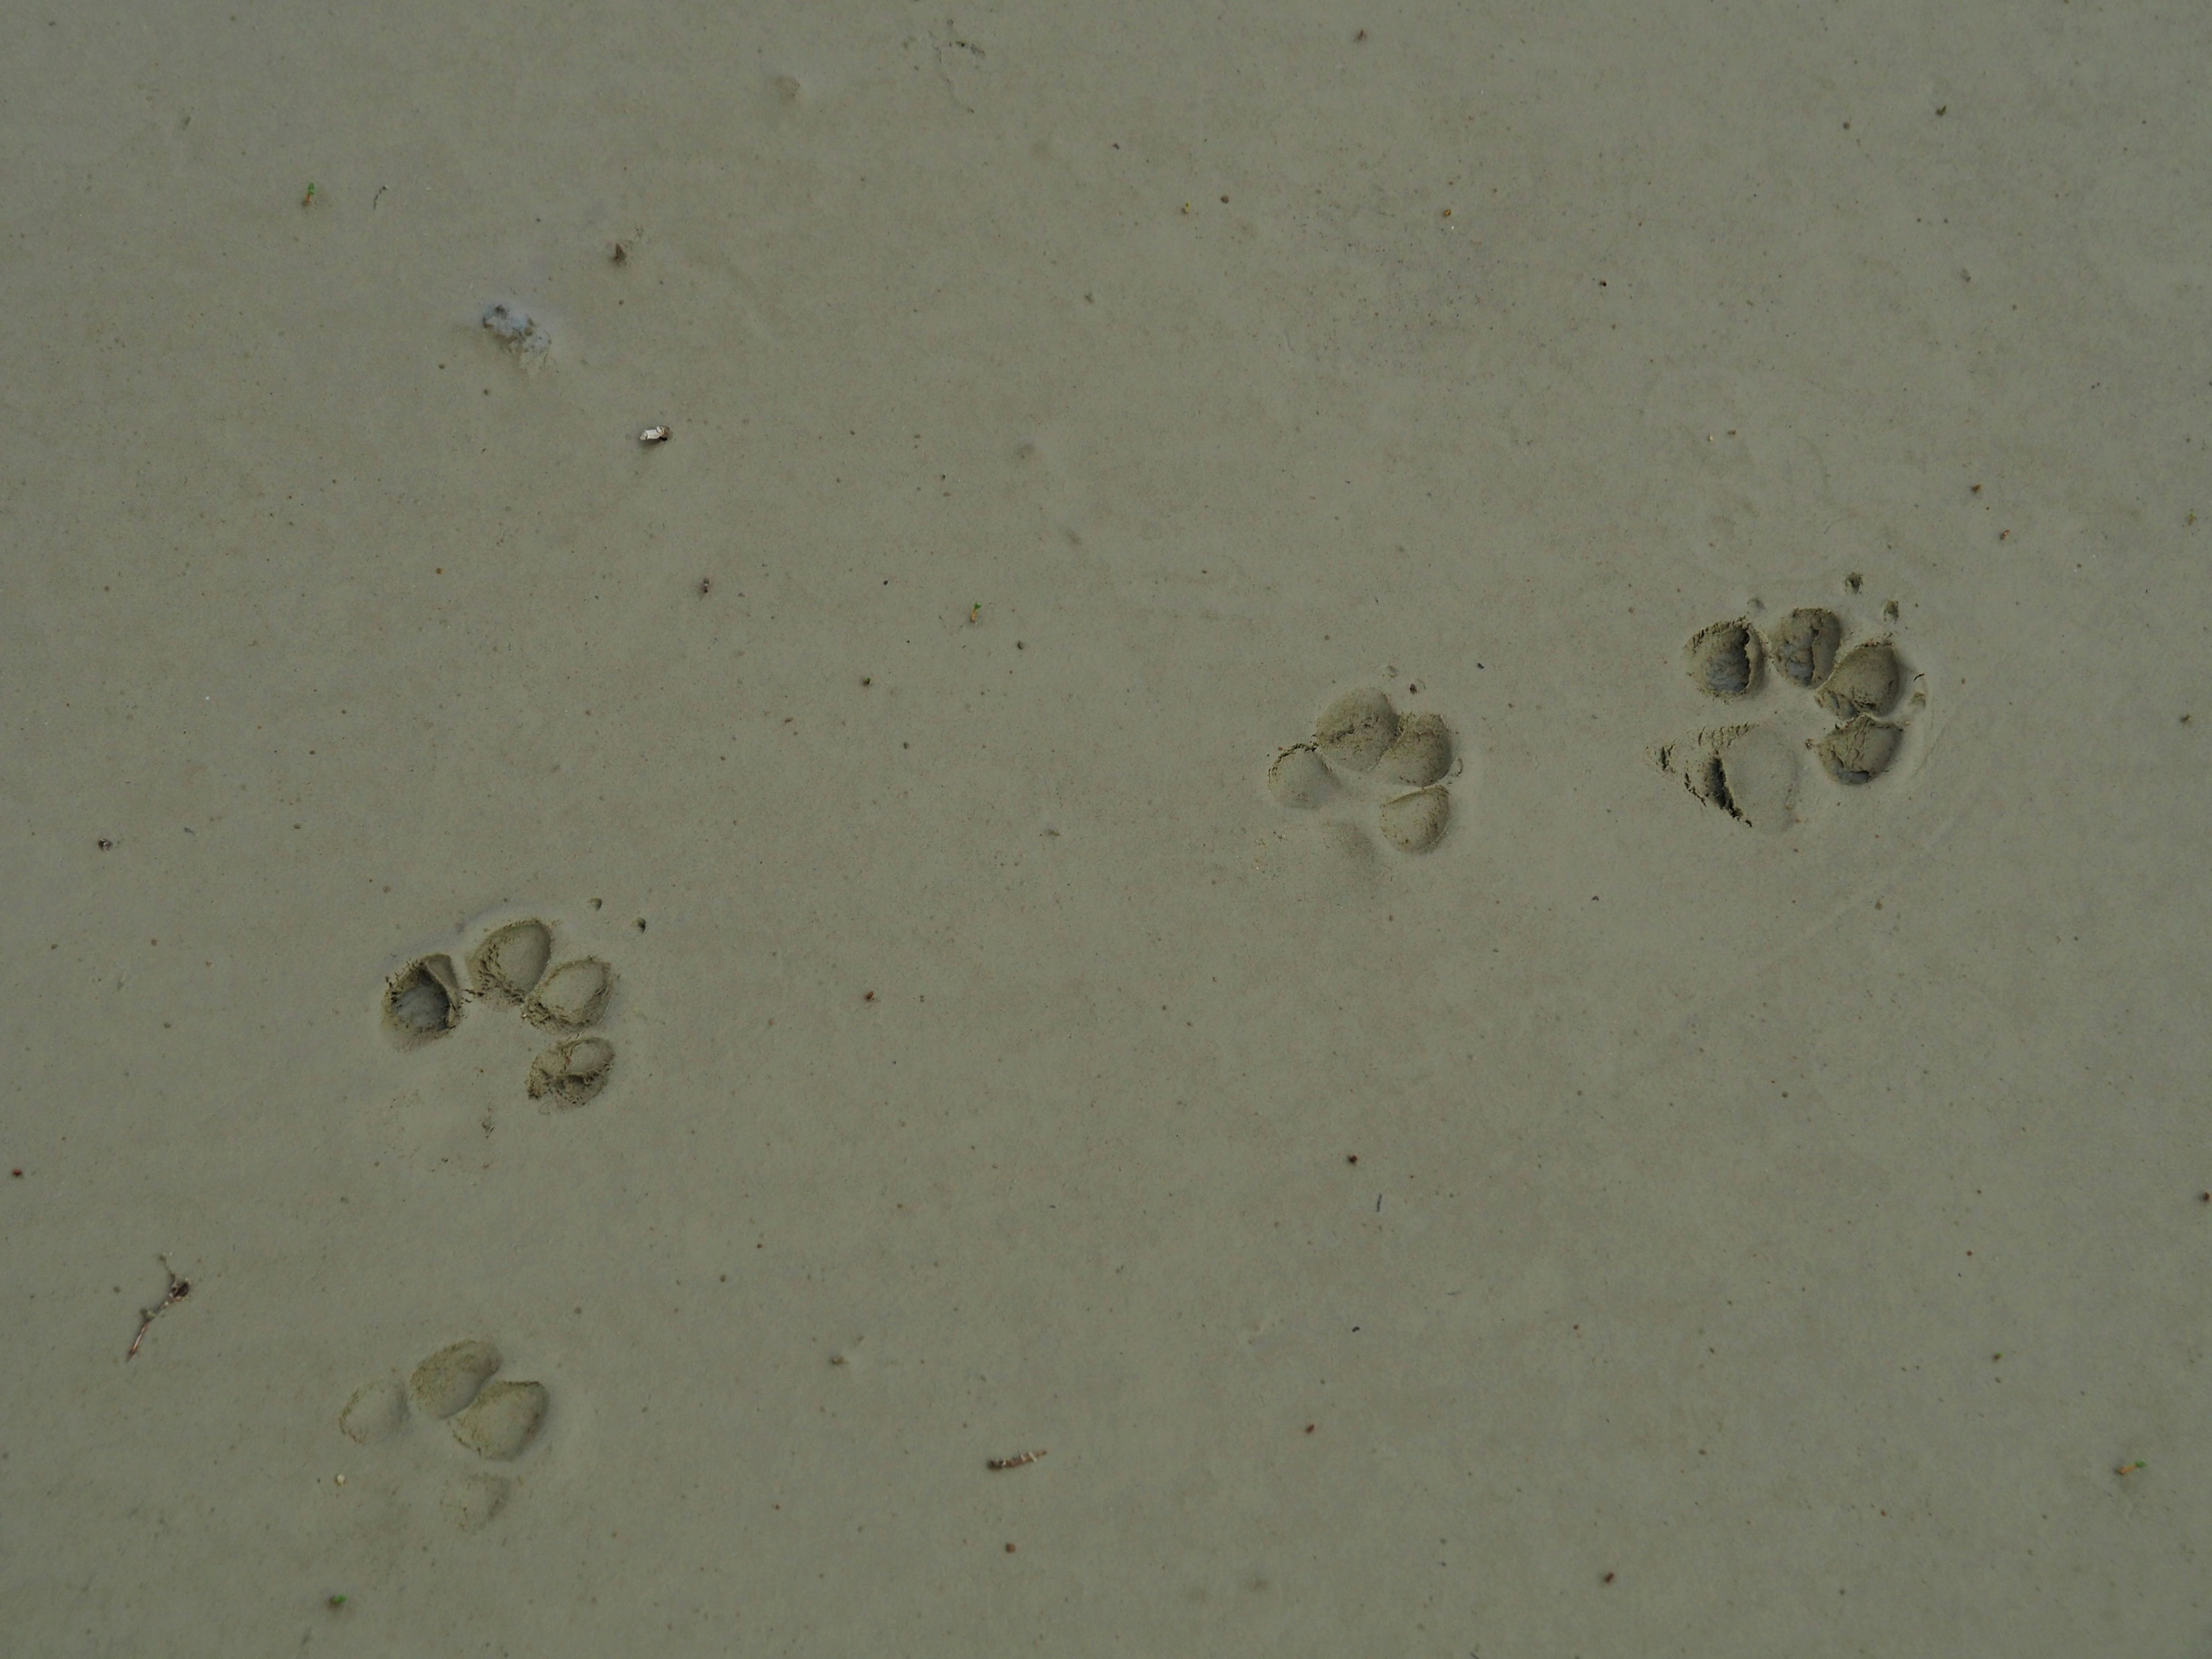chien: (1679, 610, 1916, 836)
